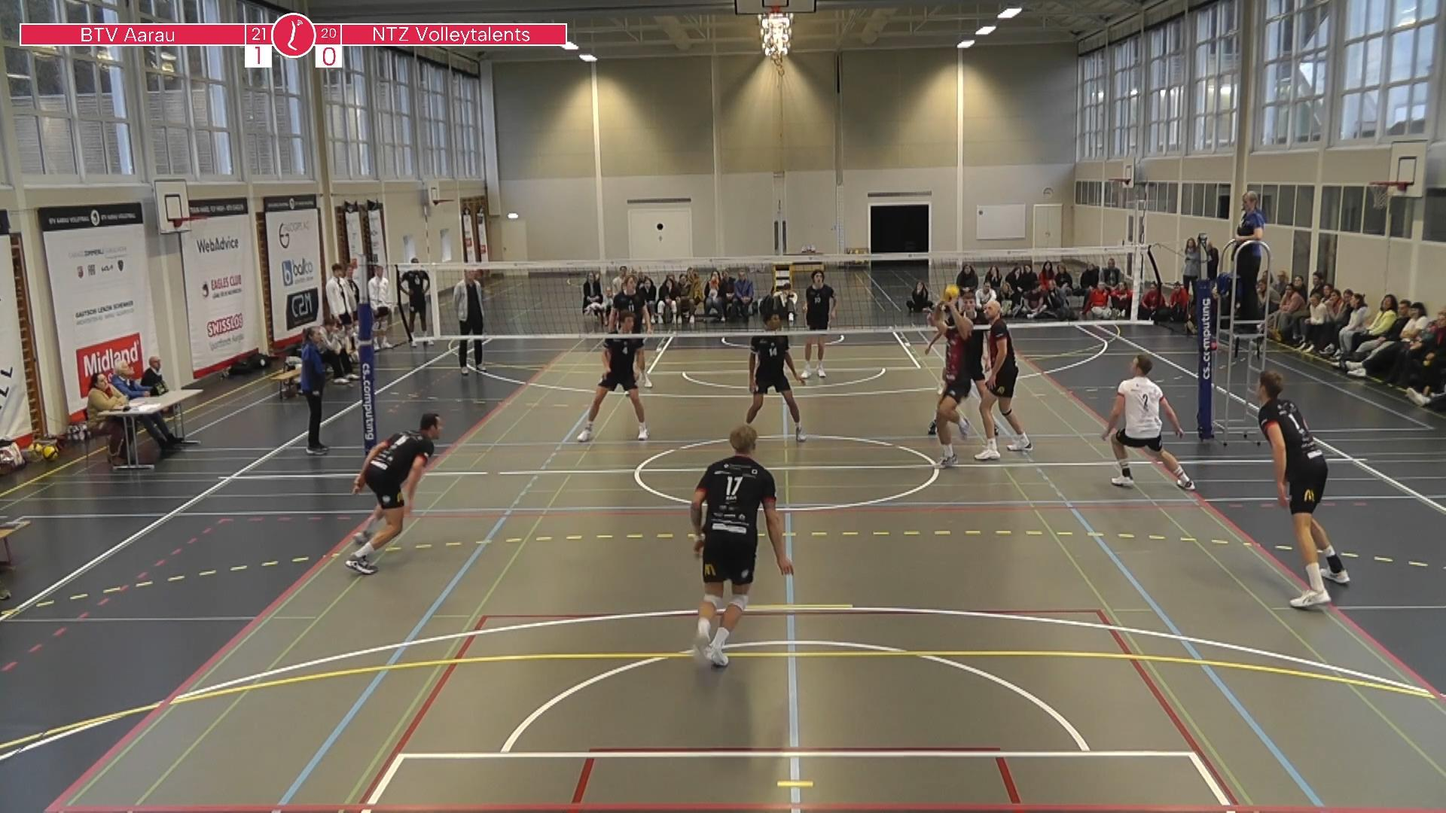Player: (690, 426, 792, 666), (1257, 370, 1348, 607), (346, 413, 441, 574), (1102, 354, 1194, 490), (577, 311, 648, 442), (975, 302, 1033, 460), (926, 285, 972, 467), (746, 309, 806, 442), (801, 272, 836, 379), (609, 273, 652, 333)
Set: (924, 299, 977, 470)
ball: (938, 279, 961, 300)
